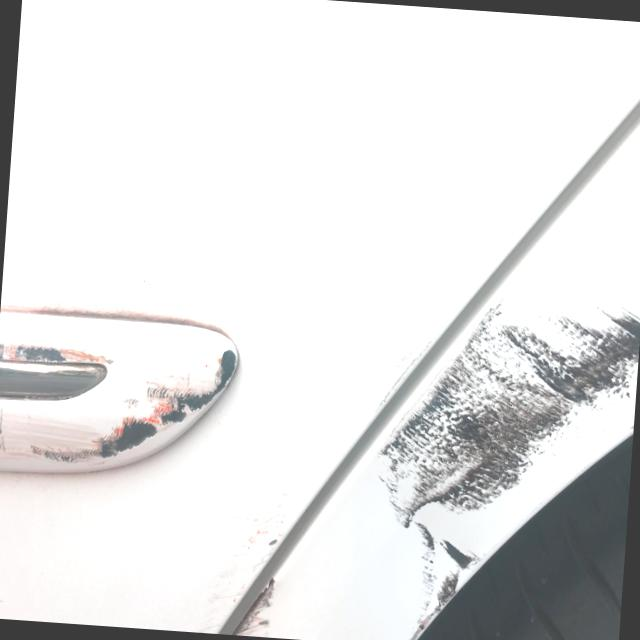Rayure: (0, 319, 245, 493), (185, 544, 292, 638)
